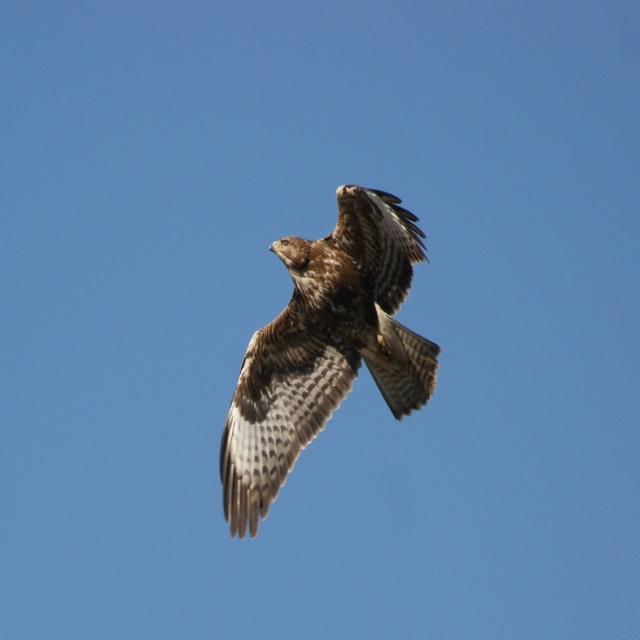Eagle: (219, 184, 442, 541)
